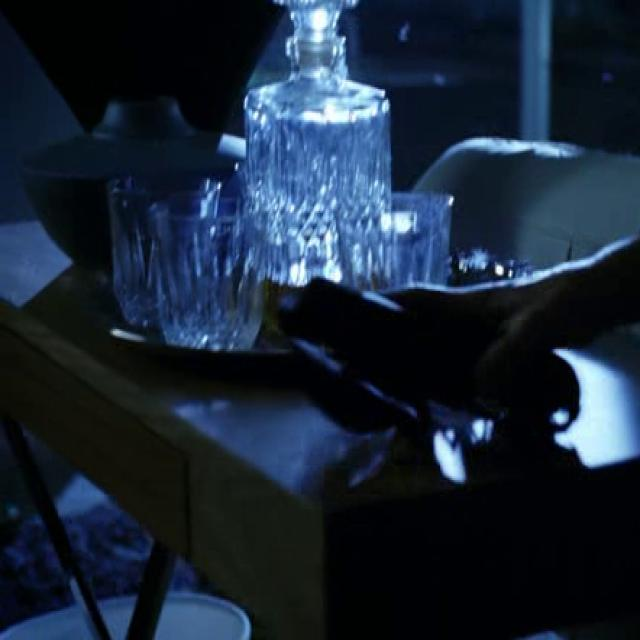Bottle: (252, 0, 389, 281)
Cup: (87, 160, 211, 322), (131, 217, 271, 353), (330, 180, 438, 313)
Table: (0, 208, 640, 640)
chair: (405, 88, 640, 302)
